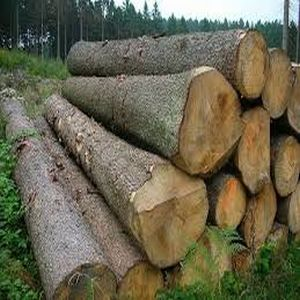log: (126, 162, 207, 268), (177, 73, 241, 173), (238, 109, 273, 193), (233, 27, 269, 100), (214, 177, 246, 233), (267, 48, 294, 114), (271, 136, 300, 193)
